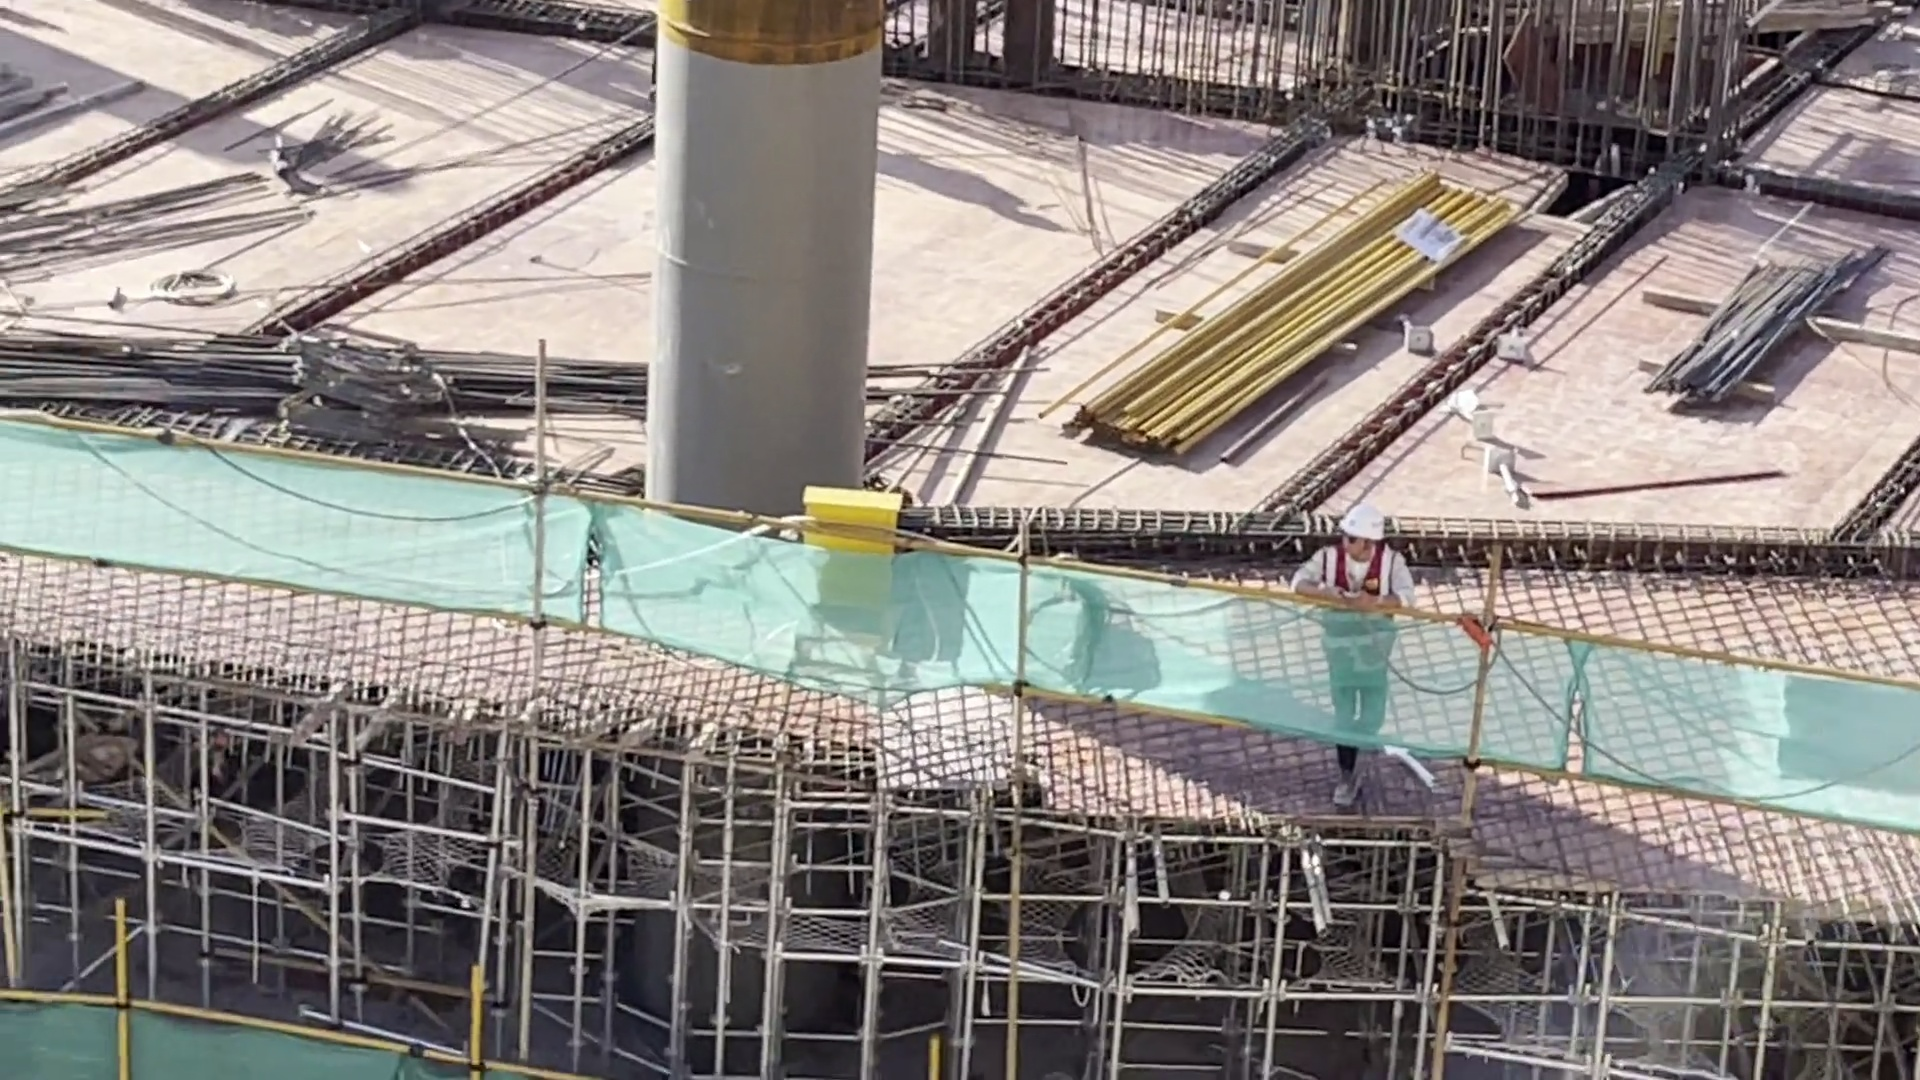ebox: (791, 482, 903, 620)
helmet: (1342, 498, 1387, 541)
person: (1287, 498, 1411, 808)
vest: (1308, 541, 1394, 682)
